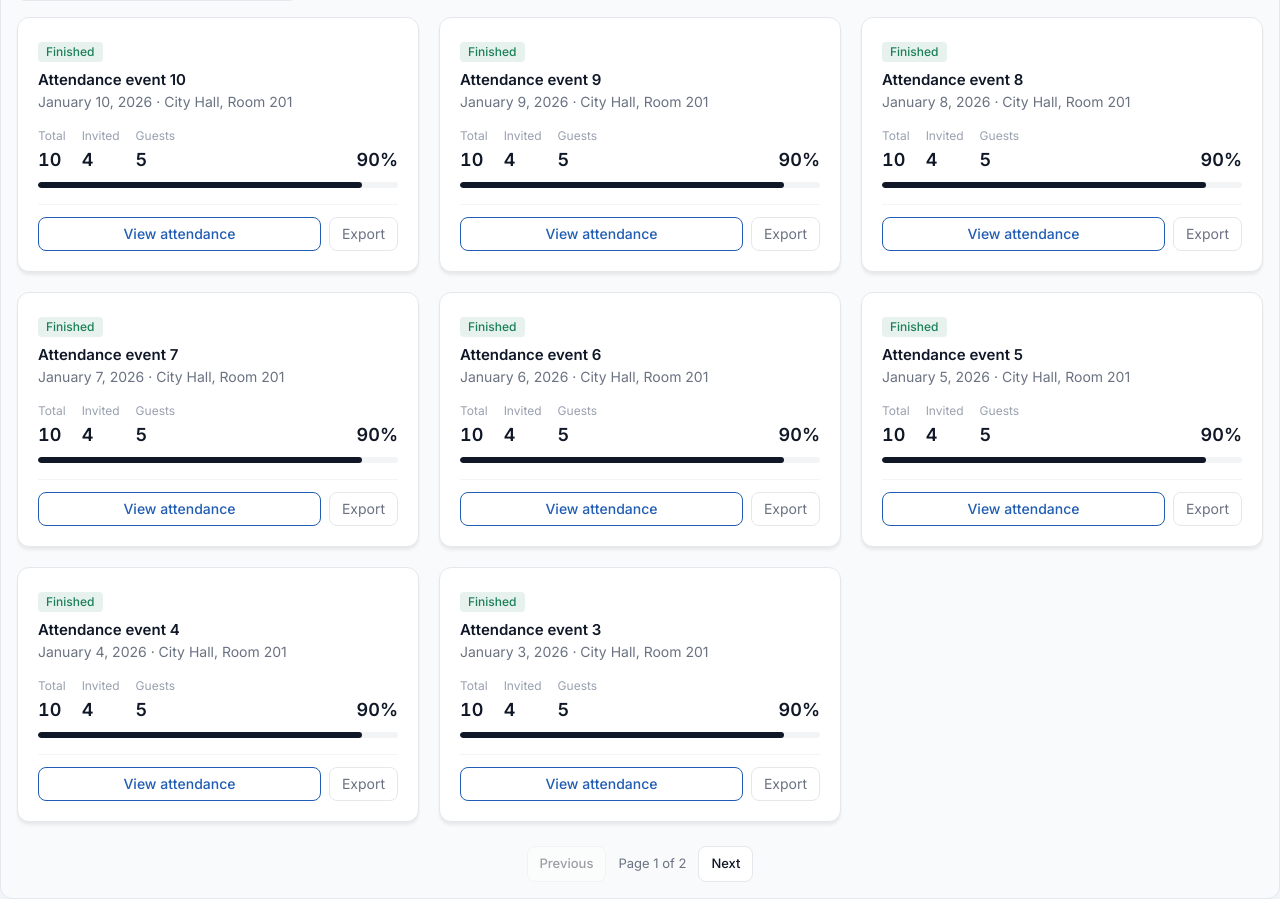
Test case: the attendance grid › loads eight attendance event reports per page
(page scrolled)
Expected: the heading "Attendance event 10" is shown, [38,70,186,89]
Expected: the heading "Attendance event 3" is shown, [460,620,601,639]
Click the button "Next". click: (726,864)
box: [698,846,754,882]
(page scrolled)
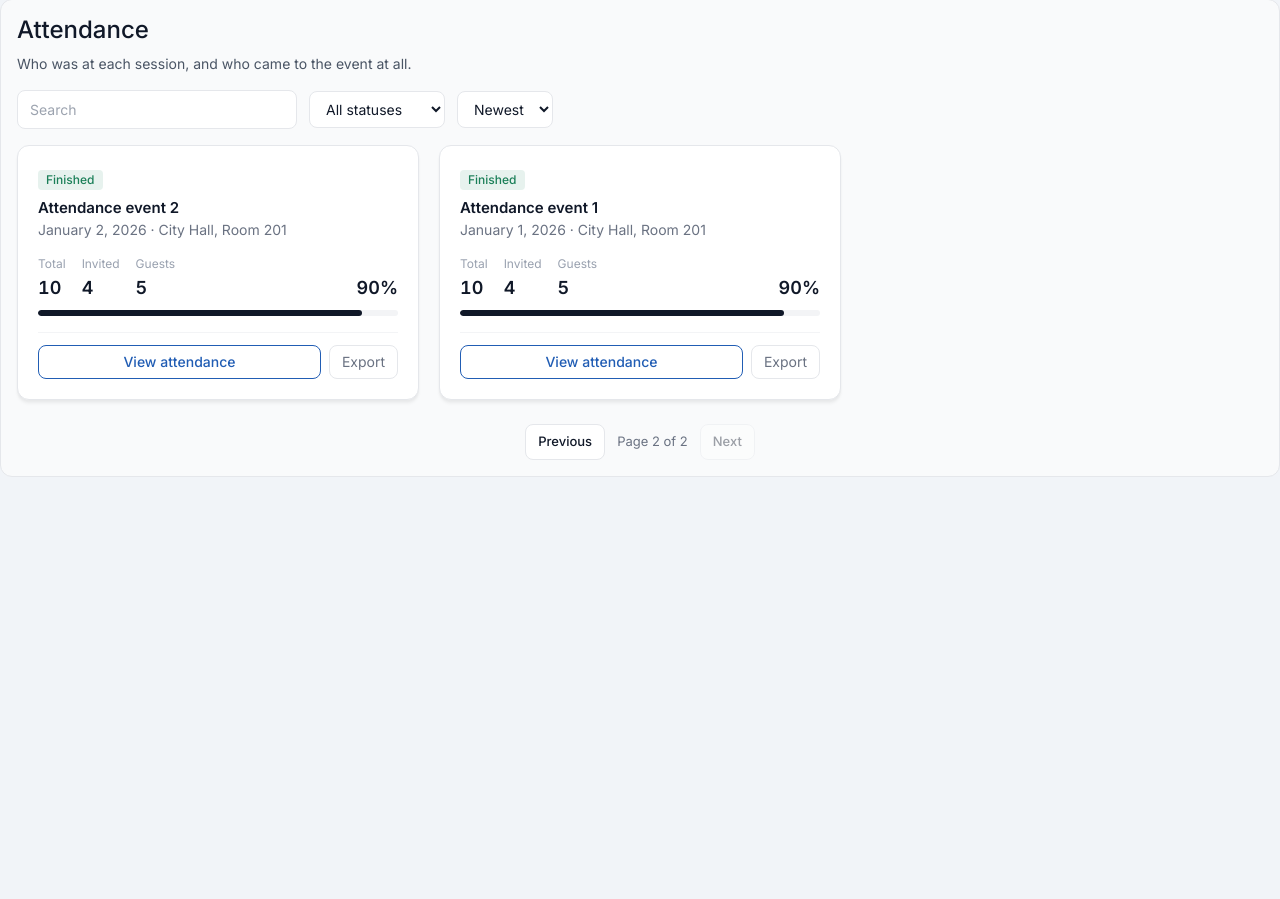
Now the heading "Attendance event 2" is shown, box [38,198,179,217]
